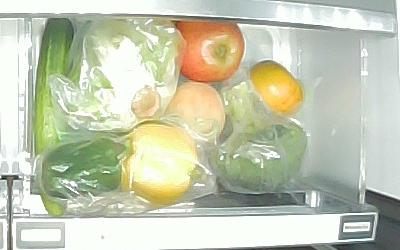apple: (173, 22, 245, 83)
broccoli_vinyl: (214, 82, 307, 194)
cucumber: (33, 18, 74, 216)
lettuce_vinyl: (74, 20, 179, 129)
paprika_vinyl: (122, 123, 197, 207), (42, 138, 132, 199)
peach: (167, 80, 225, 139)
persimmon: (248, 59, 306, 117)
